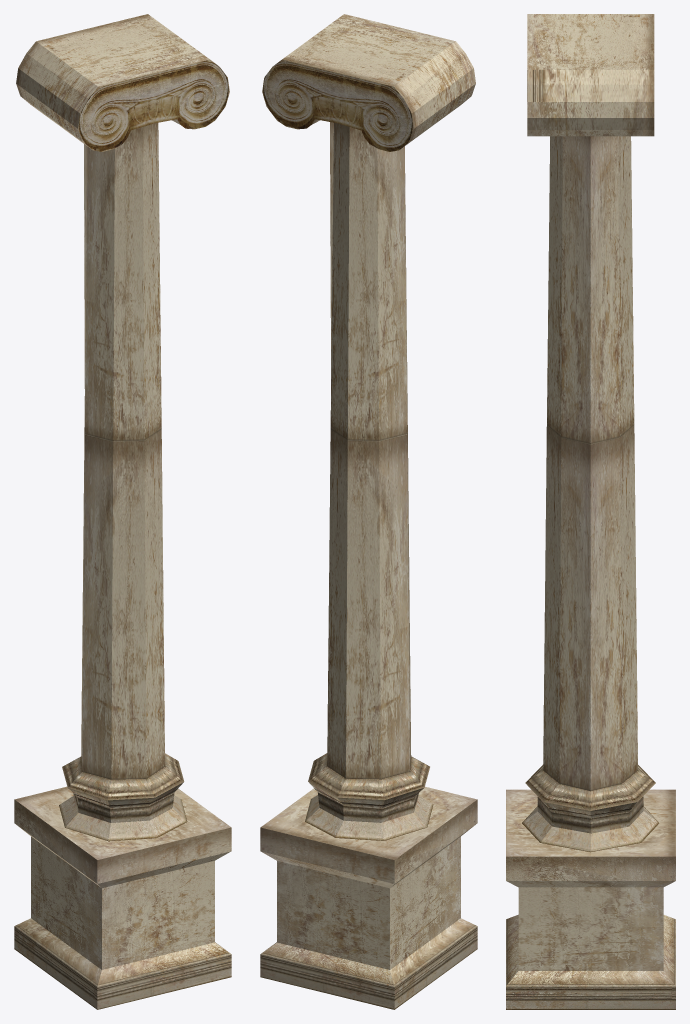
The model's file is svspartapillar5.dae.
3 views of the same model, side by side, from view 1: azimuth 30°, elevation 25°; view 2: azimuth 150°, elevation 25°; view 3: azimuth 270°, elevation 25° (orthographic). The views are drawn at different scales.
Parts seen in each view (by area): view 1: cylinder4_sep6-0; view 2: cylinder4_sep6-0; view 3: cylinder4_sep6-0.
Part boxes in pixels (x1,y1,x2,y2): cylinder4_sep6-0: [14, 14, 231, 1009]; cylinder4_sep6-0: [260, 14, 477, 1009]; cylinder4_sep6-0: [506, 14, 675, 1009].
Bounding box in the file's own units: 174 × 1000 × 165.
